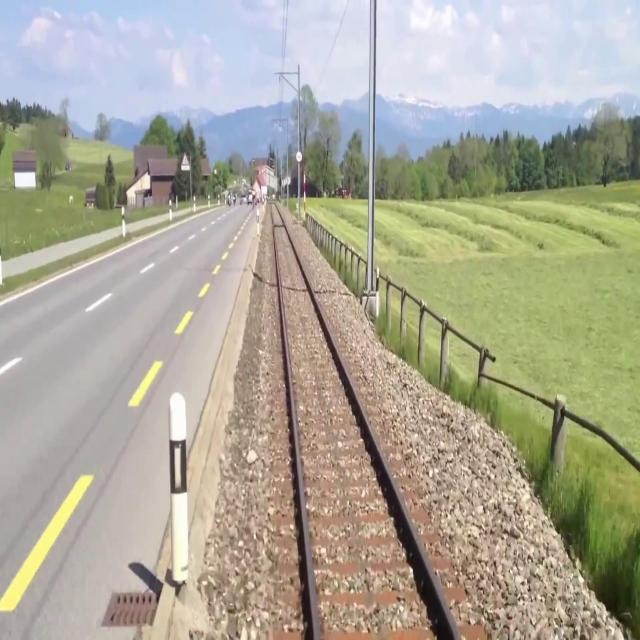rail-track: (271, 203, 457, 639)
